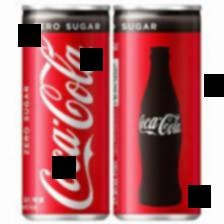cocacola_zero: (18, 3, 111, 222)
